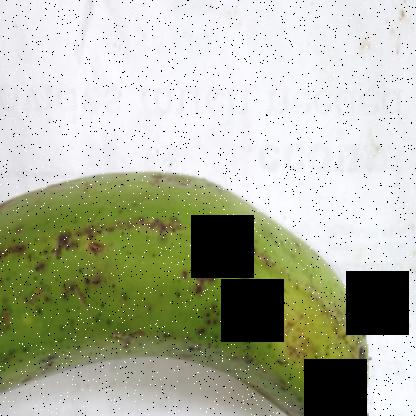unripe: (1, 152, 386, 415)
